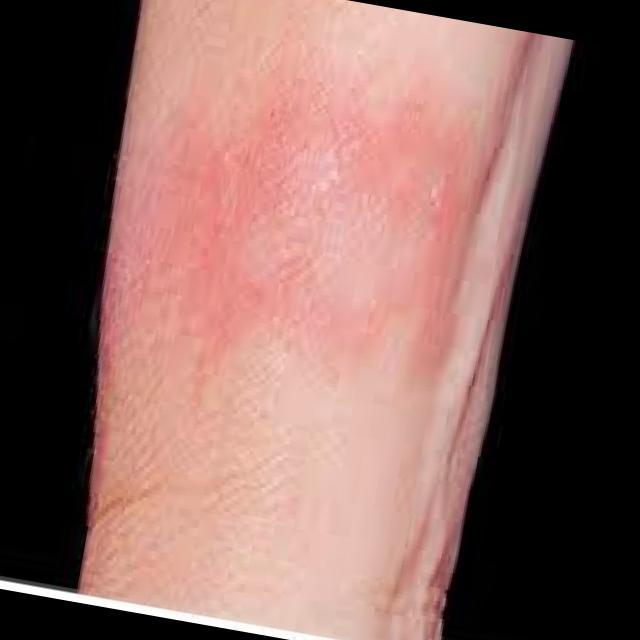Eczema: (159, 39, 486, 401)
